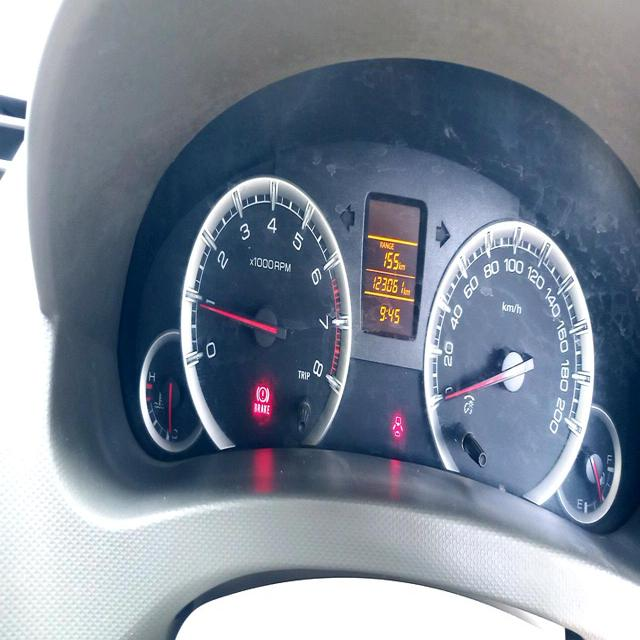odometer: (371, 272, 406, 296)
